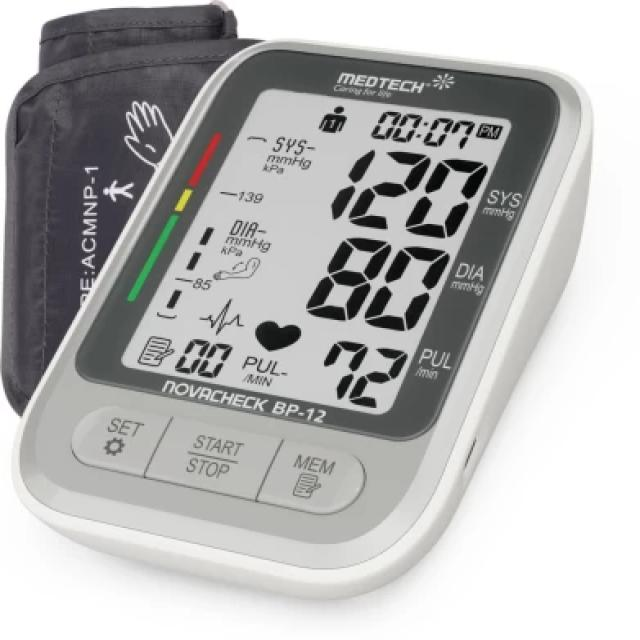dia: (276, 221, 463, 347)
pul: (292, 322, 415, 420)
ssd: (120, 19, 510, 467)
sys: (302, 132, 504, 252)
